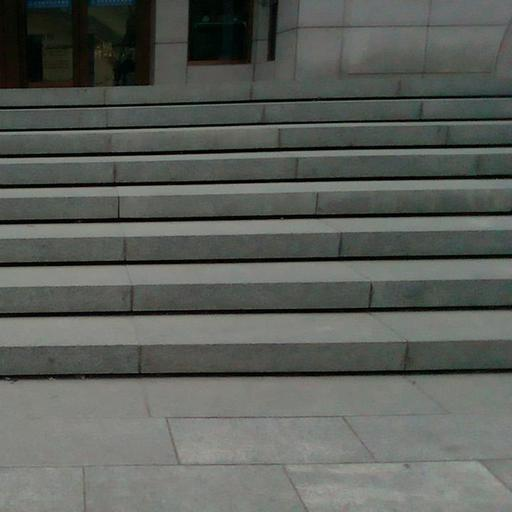stairs: (0, 97, 511, 374)
